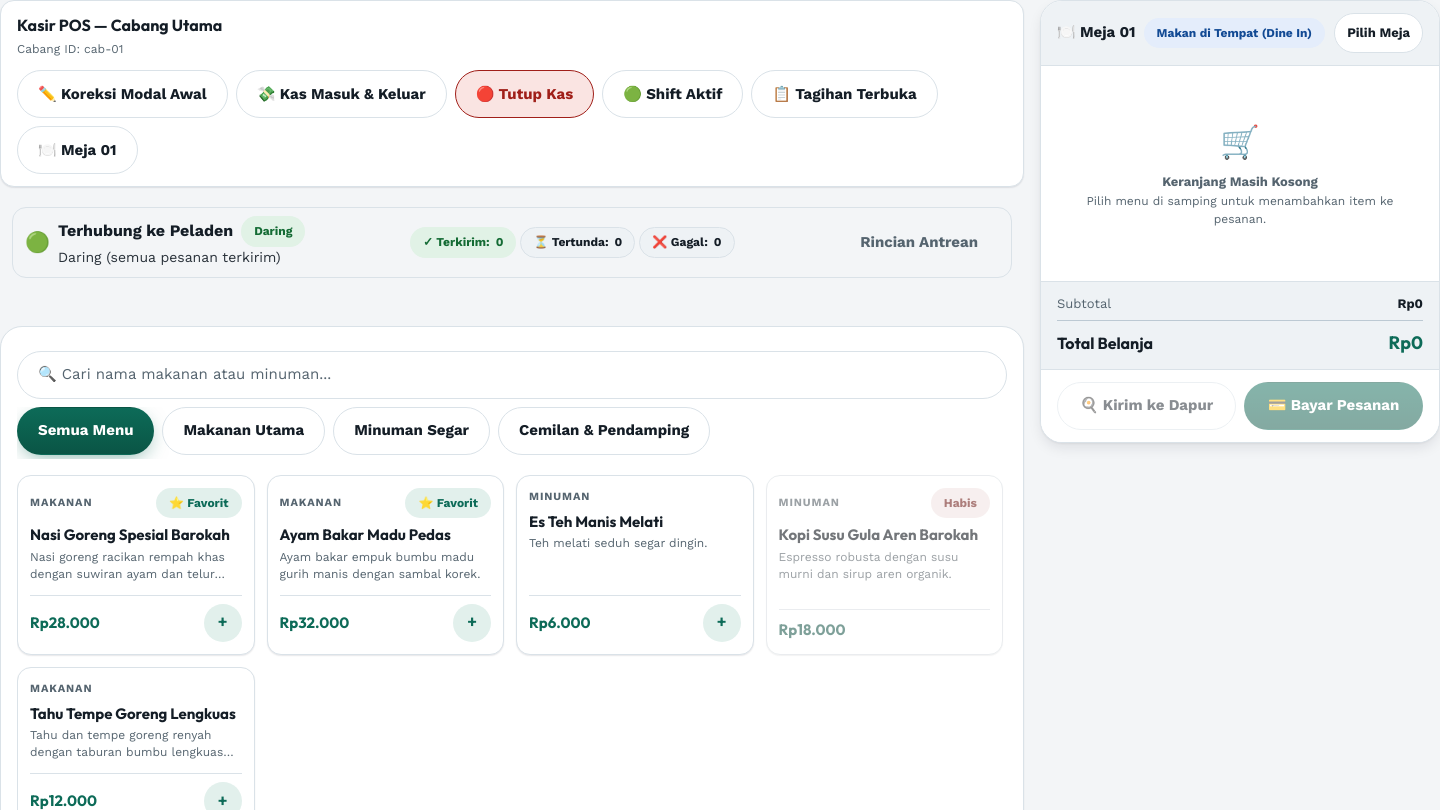
Test: LayarKasir POS (T3-01 s/d T3-16) › menampilkan tombol koreksi modal saat shift aktif dan membuka dialog KoreksiModal (T7-06)
Click the button "✏️ Koreksi Modal Awal" at (122, 94), box [17,70,228,118]
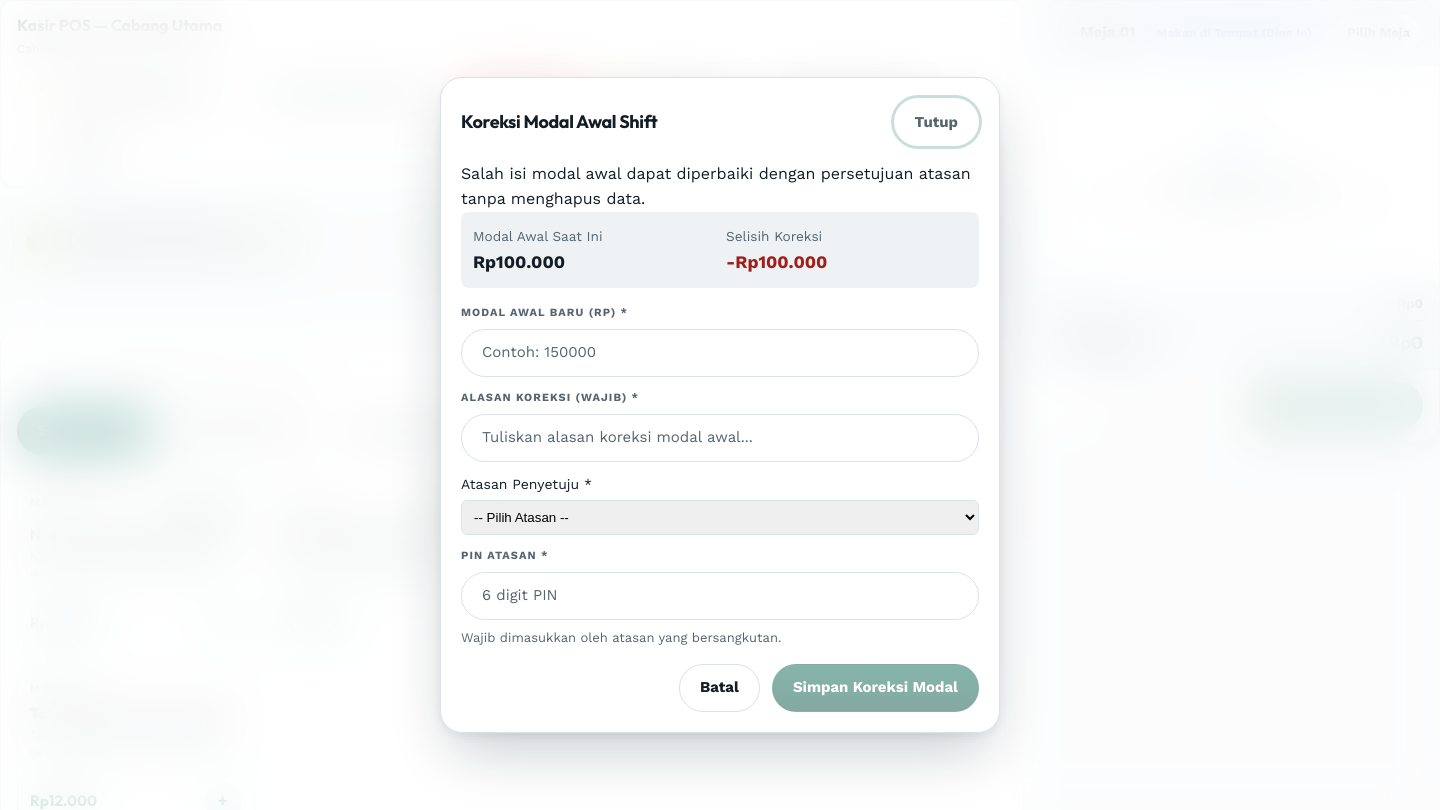
Check: the element with test id "koreksi-modal" is shown, box [461,162,979,712]
Check: the text with test id "modal-awal-saat-ini" shows "100.000", box [473,252,565,272]
